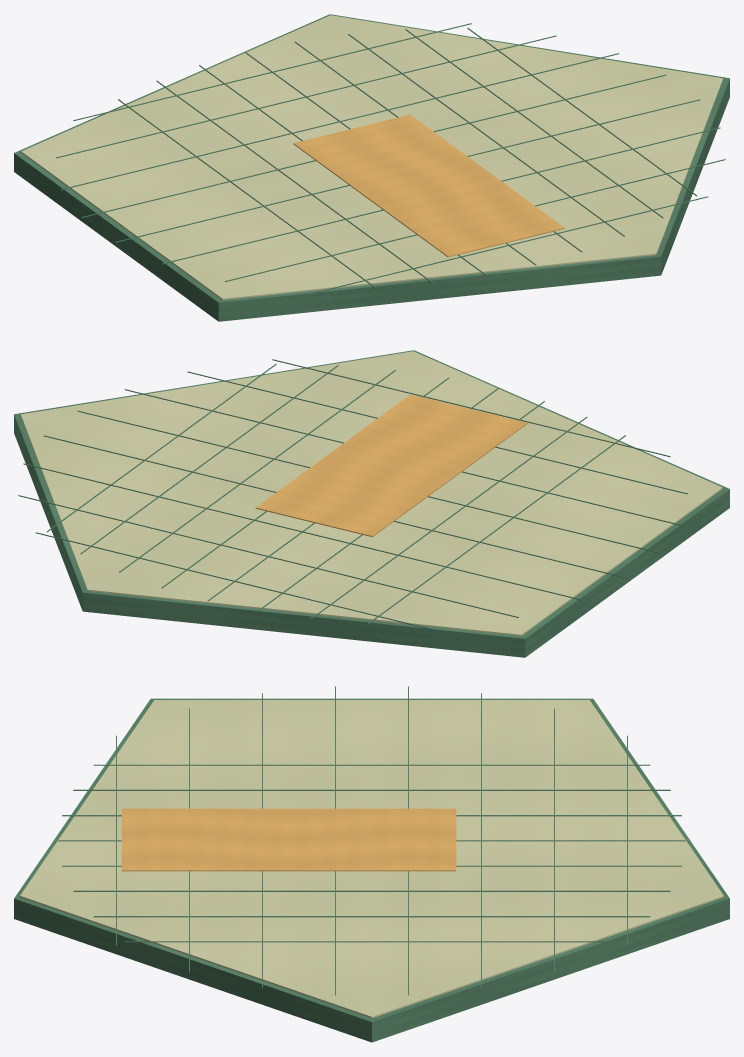
The model's file is atlas100-s006-a07.lod1.glb.
3 views of the same model, one above another, from view 1: azimuth 30°, elevation 25°; view 2: azimuth 150°, elevation 25°; view 3: azimuth 270°, elevation 25° (orthographic). The views are drawn at different scales.
Visible parts, largest first — view 1: atlas100-s006-a07:part-001, atlas100-s006-a07:part-000, atlas100-s006-a07:part-021, atlas100-s006-a07:part-015, atlas100-s006-a07:part-014, atlas100-s006-a07:part-017, atlas100-s006-a07:part-016, atlas100-s006-a07:part-018, atlas100-s006-a07:part-020, atlas100-s006-a07:part-013, atlas100-s006-a07:part-019, atlas100-s006-a07:part-005 (+3 smaller); view 2: atlas100-s006-a07:part-001, atlas100-s006-a07:part-000, atlas100-s006-a07:part-021, atlas100-s006-a07:part-015, atlas100-s006-a07:part-014, atlas100-s006-a07:part-016, atlas100-s006-a07:part-017, atlas100-s006-a07:part-018, atlas100-s006-a07:part-013, atlas100-s006-a07:part-020, atlas100-s006-a07:part-019, atlas100-s006-a07:part-005 (+3 smaller); view 3: atlas100-s006-a07:part-001, atlas100-s006-a07:part-021, atlas100-s006-a07:part-000, atlas100-s006-a07:part-005, atlas100-s006-a07:part-009, atlas100-s006-a07:part-004, atlas100-s006-a07:part-010, atlas100-s006-a07:part-011, atlas100-s006-a07:part-007.
Boxes of the visible parts, x1,y1,x2,y2 form: atlas100-s006-a07:part-001: (21, 15, 723, 299); atlas100-s006-a07:part-000: (14, 14, 729, 321); atlas100-s006-a07:part-021: (293, 114, 564, 257); atlas100-s006-a07:part-015: (61, 53, 619, 189); atlas100-s006-a07:part-014: (56, 35, 556, 158); atlas100-s006-a07:part-017: (115, 99, 699, 242); atlas100-s006-a07:part-016: (81, 74, 666, 217); atlas100-s006-a07:part-018: (162, 127, 720, 264); atlas100-s006-a07:part-020: (310, 196, 707, 294); atlas100-s006-a07:part-013: (73, 23, 471, 120); atlas100-s006-a07:part-019: (225, 159, 725, 281); atlas100-s006-a07:part-005: (156, 80, 433, 283); atlas100-s006-a07:part-001: (20, 351, 722, 635); atlas100-s006-a07:part-000: (14, 350, 729, 657); atlas100-s006-a07:part-021: (255, 394, 527, 537); atlas100-s006-a07:part-015: (23, 463, 581, 600); atlas100-s006-a07:part-014: (18, 495, 518, 617); atlas100-s006-a07:part-016: (44, 435, 628, 578); atlas100-s006-a07:part-017: (77, 410, 662, 553); atlas100-s006-a07:part-018: (124, 389, 682, 525); atlas100-s006-a07:part-013: (36, 532, 433, 630); atlas100-s006-a07:part-020: (272, 359, 670, 456); atlas100-s006-a07:part-019: (187, 371, 687, 494); atlas100-s006-a07:part-005: (310, 416, 587, 619); atlas100-s006-a07:part-001: (20, 700, 723, 1018); atlas100-s006-a07:part-021: (121, 808, 456, 871); atlas100-s006-a07:part-000: (14, 698, 729, 1042); atlas100-s006-a07:part-005: (73, 789, 670, 790); atlas100-s006-a07:part-009: (73, 890, 670, 891); atlas100-s006-a07:part-004: (93, 764, 650, 765); atlas100-s006-a07:part-010: (93, 916, 650, 917); atlas100-s006-a07:part-011: (124, 941, 619, 942); atlas100-s006-a07:part-007: (58, 840, 685, 841).
Bounding box in the file's own units: 11.87 × 0.404 × 10.78.
3 materials, 3 textured.
